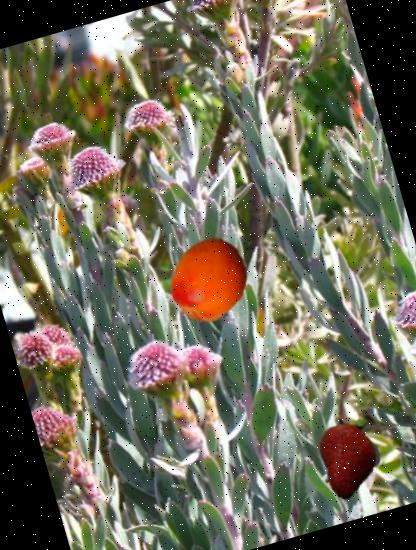Apricot: (157, 227, 262, 333)
Avocado: (324, 420, 388, 483)
Strawberry: (306, 410, 394, 498)
